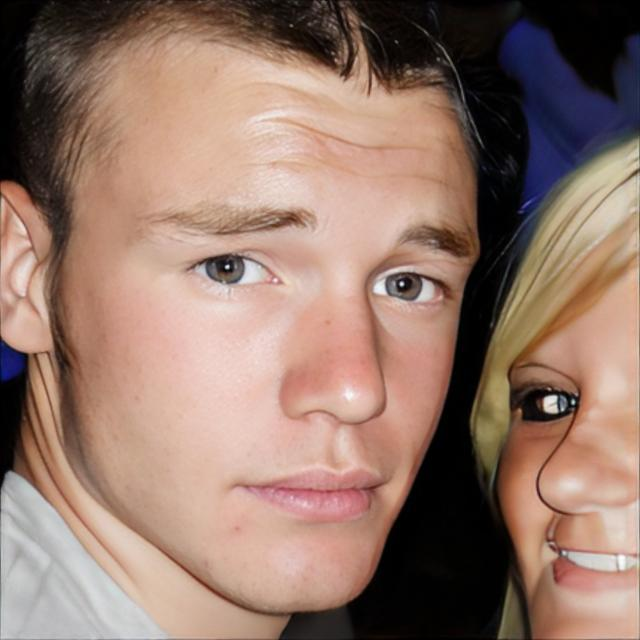happy: (54, 16, 482, 616), (490, 187, 640, 638)
